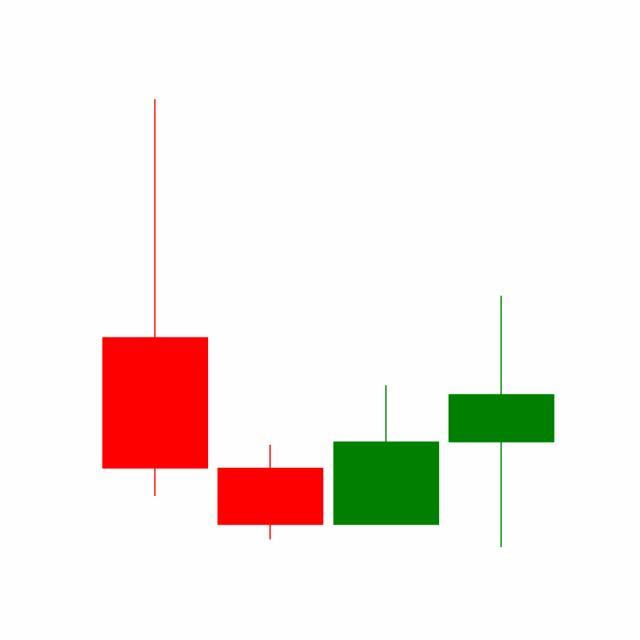Spinning Top: (444, 293, 560, 551)
